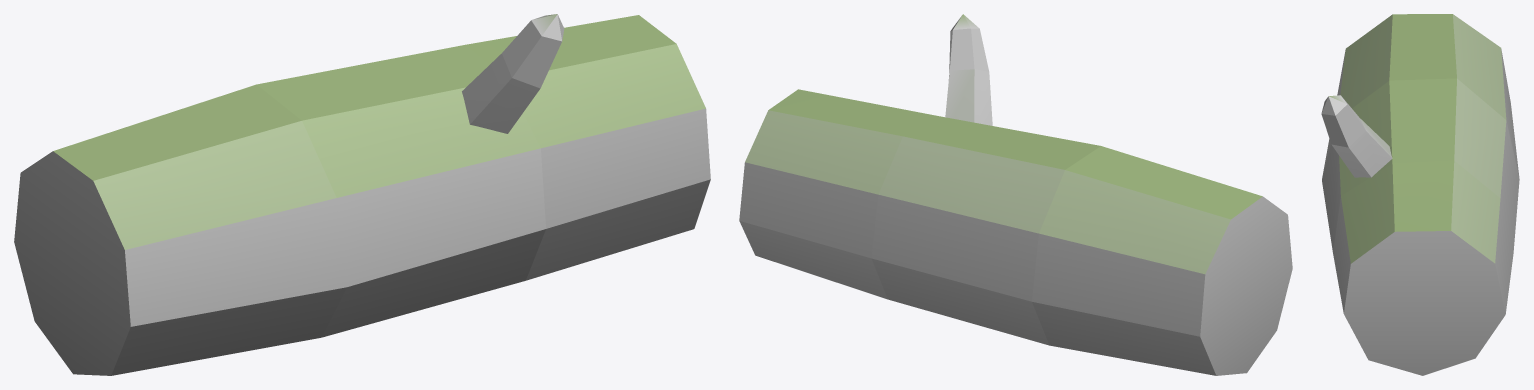
Rendered from log.glb.
3 renders of one model, left to right at view 1: azimuth 30°, elevation 25°; view 2: azimuth 150°, elevation 25°; view 3: azimuth 270°, elevation 25°, orthographic. The views are drawn at different scales.
Visible parts, largest first — view 1: log; view 2: log; view 3: log.
Part boxes in pixels (x1,y1,x2,y2): log: (14, 14, 710, 375); log: (739, 14, 1292, 375); log: (1321, 14, 1519, 375).
Bounding box in the file's own units: 1.7 × 0.8641 × 0.6694.
